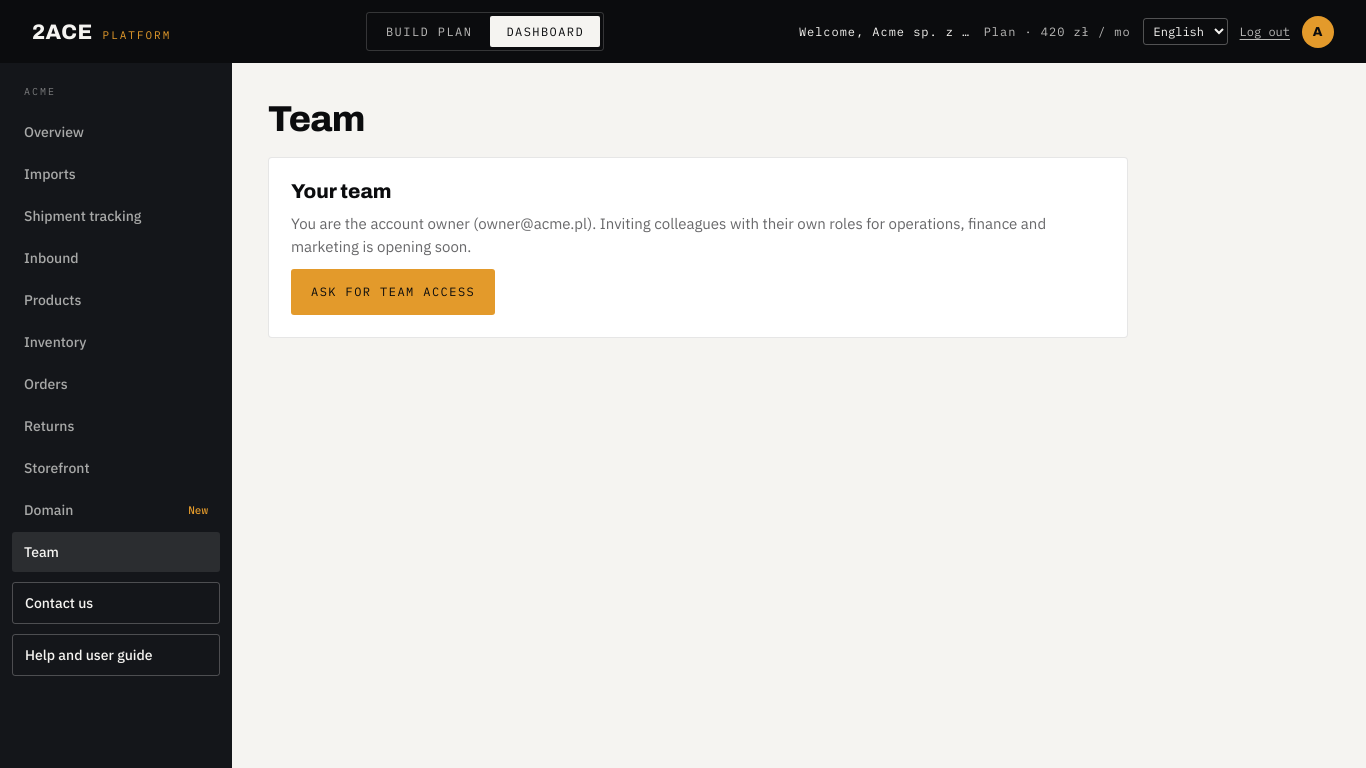
contact and navigation › the team tab explains and offers to ask for access; every tab has a link
Click the button "Ask for team access" at (393, 292), box [291,268,495,314]
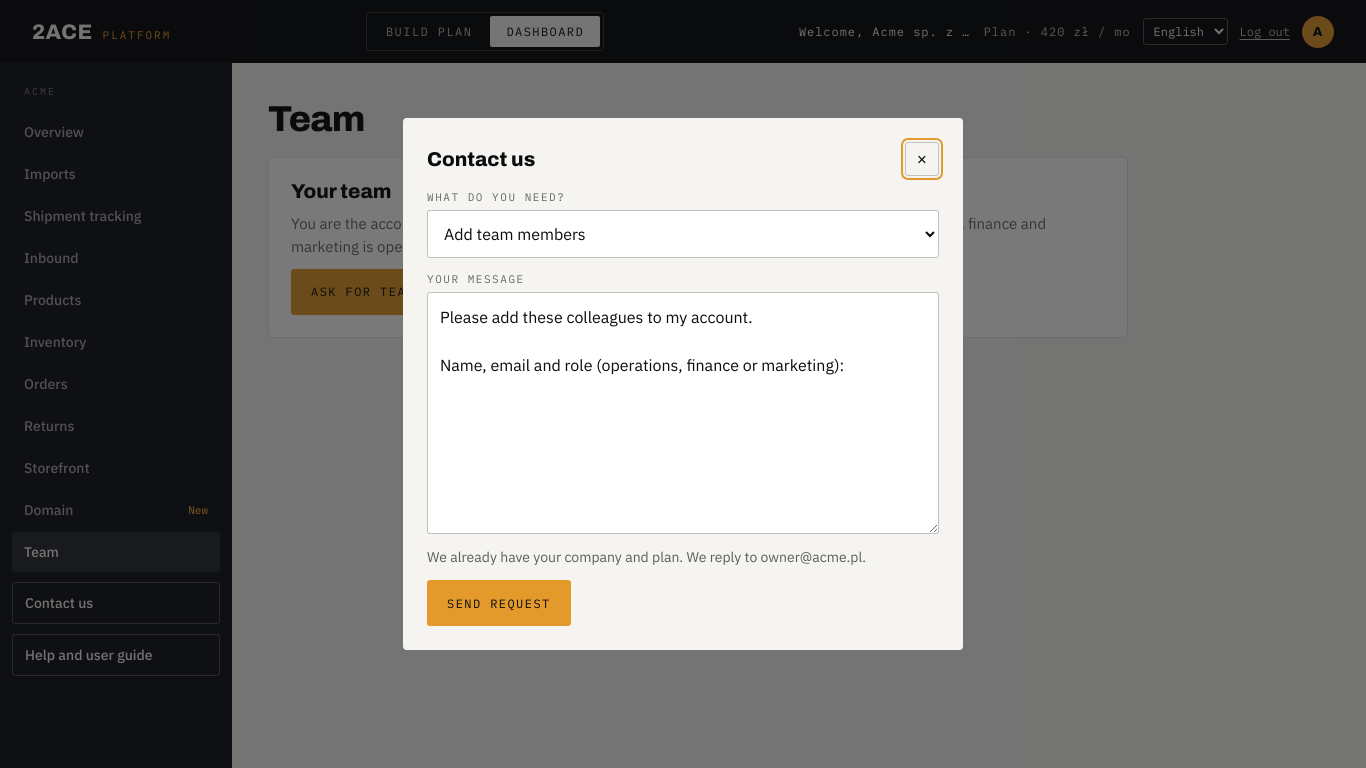
Expected: the dialog is shown, [403,118,963,650]
